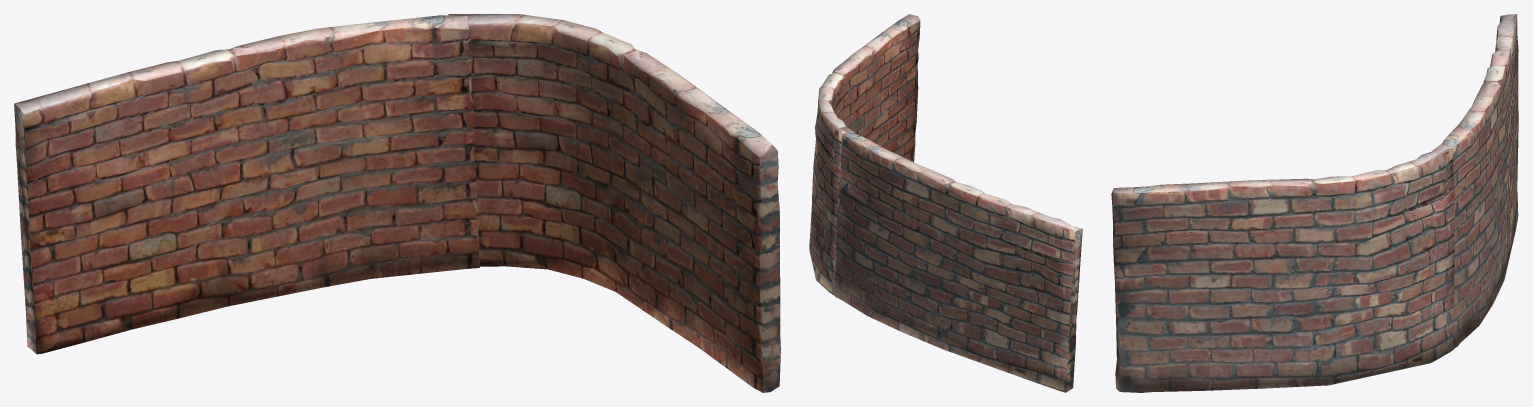
Rendered from KiegeluSIenaLocitaPanks.fbx.
3 renders of one model, left to right at view 1: azimuth 30°, elevation 25°; view 2: azimuth 150°, elevation 25°; view 3: azimuth 270°, elevation 25°, orthographic. The views are drawn at different scales.
Visible parts, largest first — view 1: Retopo_3DModel_mesh.001; view 2: Retopo_3DModel_mesh.001; view 3: Retopo_3DModel_mesh.001.
Boxes of the visible parts, bbox=[...] form: Retopo_3DModel_mesh.001: bbox=[14, 14, 780, 392]; Retopo_3DModel_mesh.001: bbox=[809, 14, 1082, 392]; Retopo_3DModel_mesh.001: bbox=[1111, 14, 1518, 392].
Bounding box in the file's own units: 9.08 × 4.6 × 7.78.
Materials: 1 (1 with a texture image).
